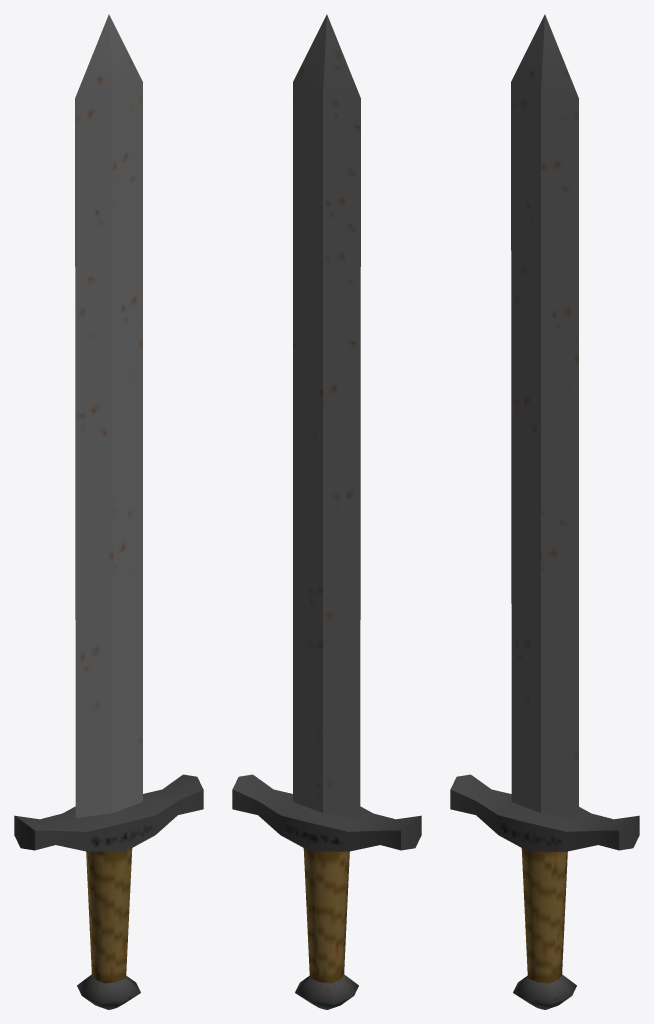
Rendered from ShortSword.fbx.
3 renders of one model, left to right at view 1: azimuth 30°, elevation 25°; view 2: azimuth 150°, elevation 25°; view 3: azimuth 330°, elevation 25°, orthographic.
Parts seen in each view (by area): view 1: Sword; view 2: Sword; view 3: Sword.
Boxes of the visible parts, bbox=[...] form: Sword: bbox=[14, 14, 203, 1009]; Sword: bbox=[232, 14, 421, 1009]; Sword: bbox=[450, 14, 639, 1009].
Size of the model in its own units: 0.13 by 0.6995 by 0.044.
